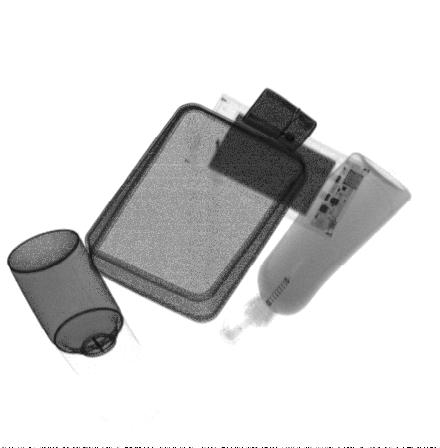Lighter: (242, 88, 318, 152)
Powerbank: (184, 92, 372, 241)
Sprayer: (6, 229, 142, 382)
